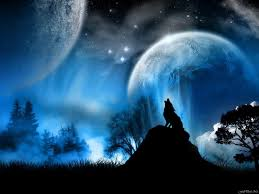Lobo: (150, 92, 188, 133)
